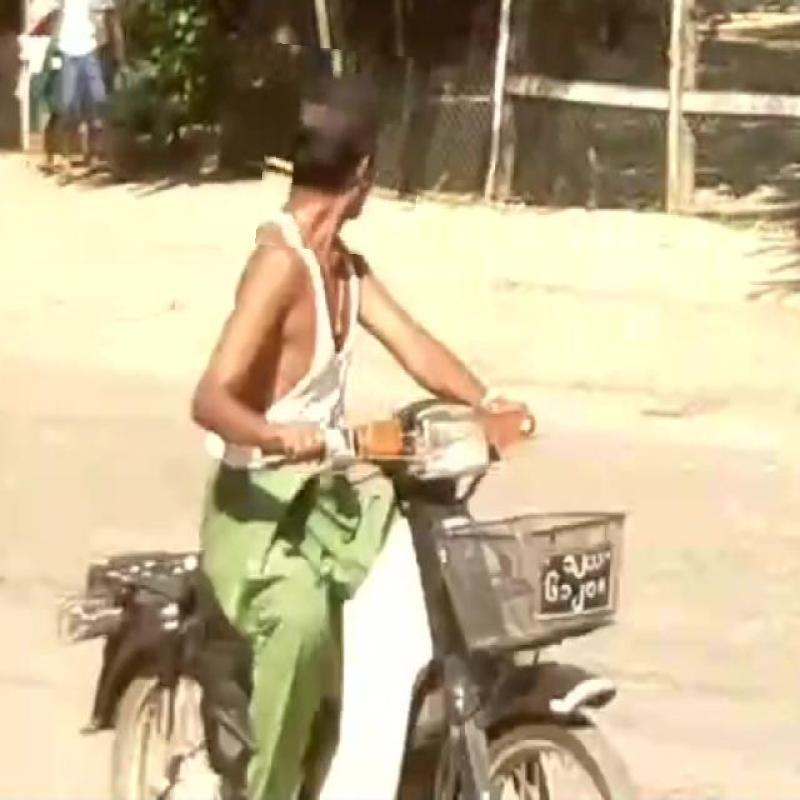nohelmet: (260, 47, 426, 257)
